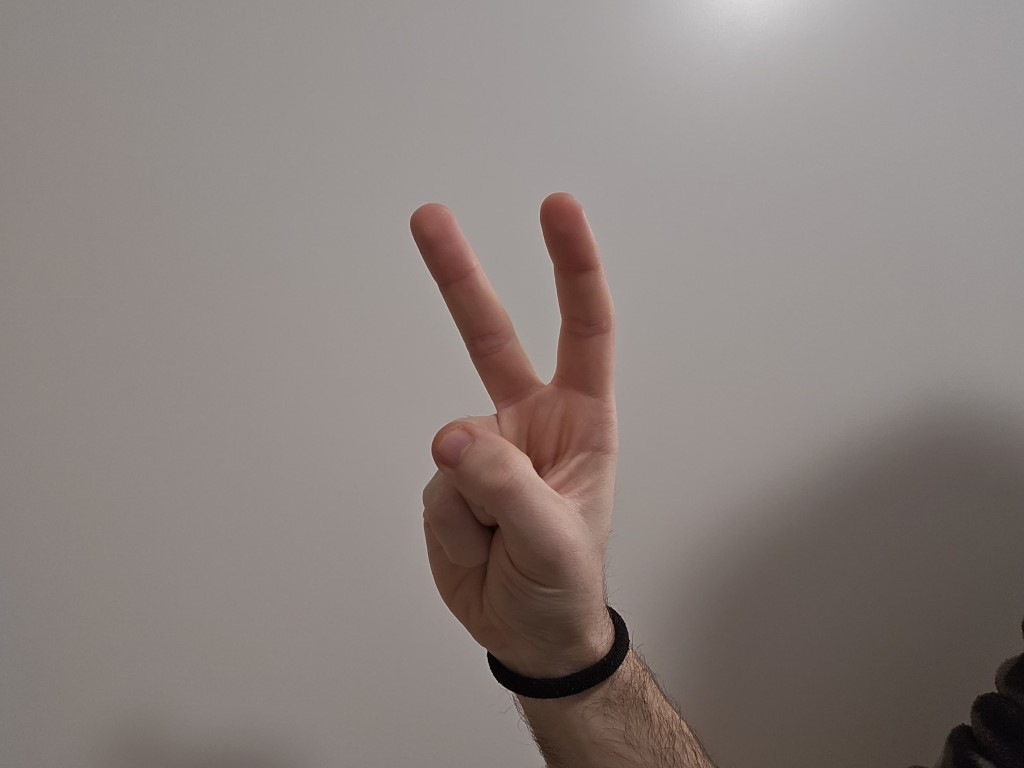v: (358, 185, 644, 647)
